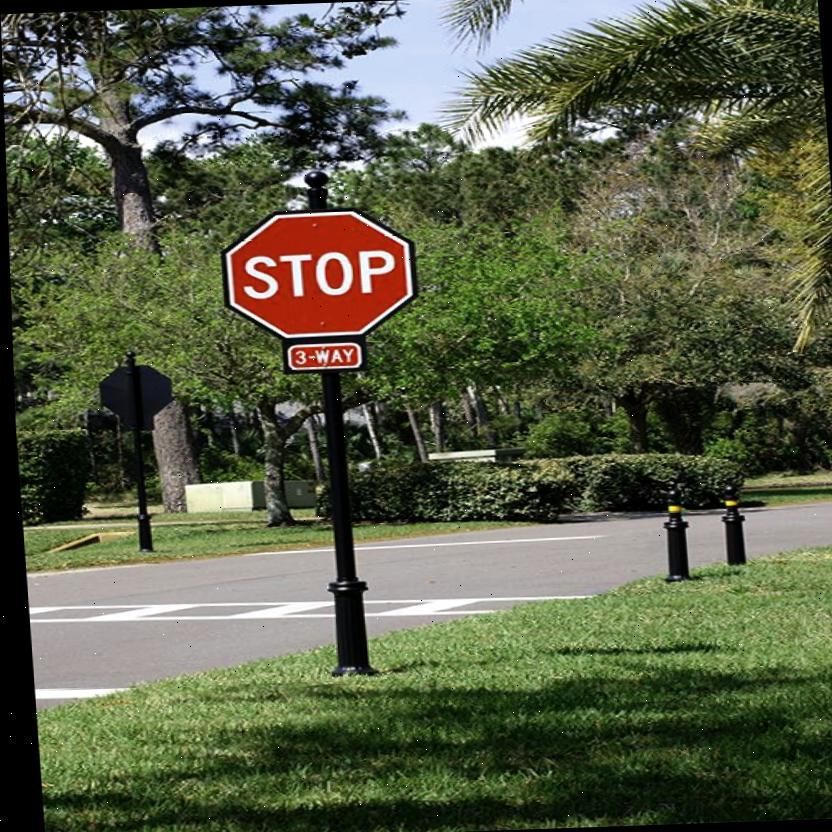Pole: (309, 371, 365, 676), (123, 414, 155, 556)
Sign: (224, 213, 409, 337)
